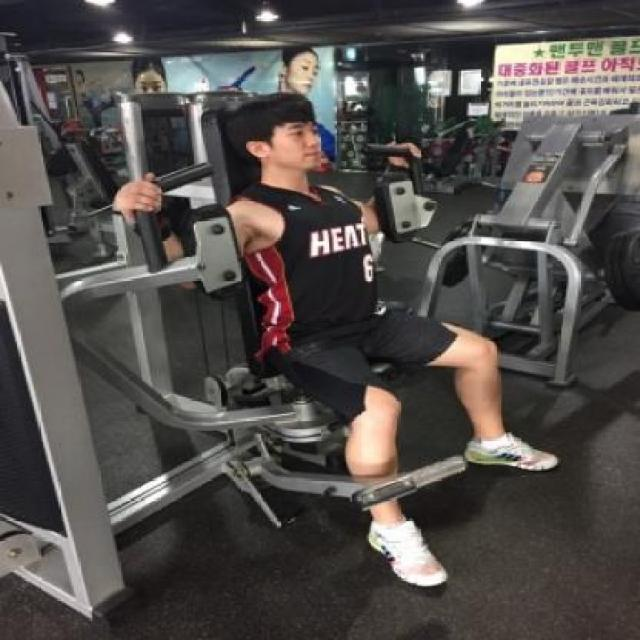chest fly machine: (0, 46, 582, 640)
